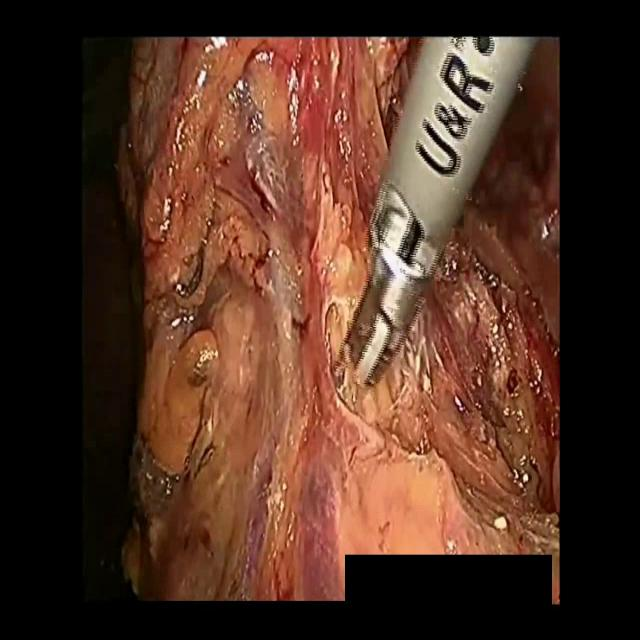surgical-area: (82, 34, 560, 603)
surgical-tool: (339, 34, 538, 393)
